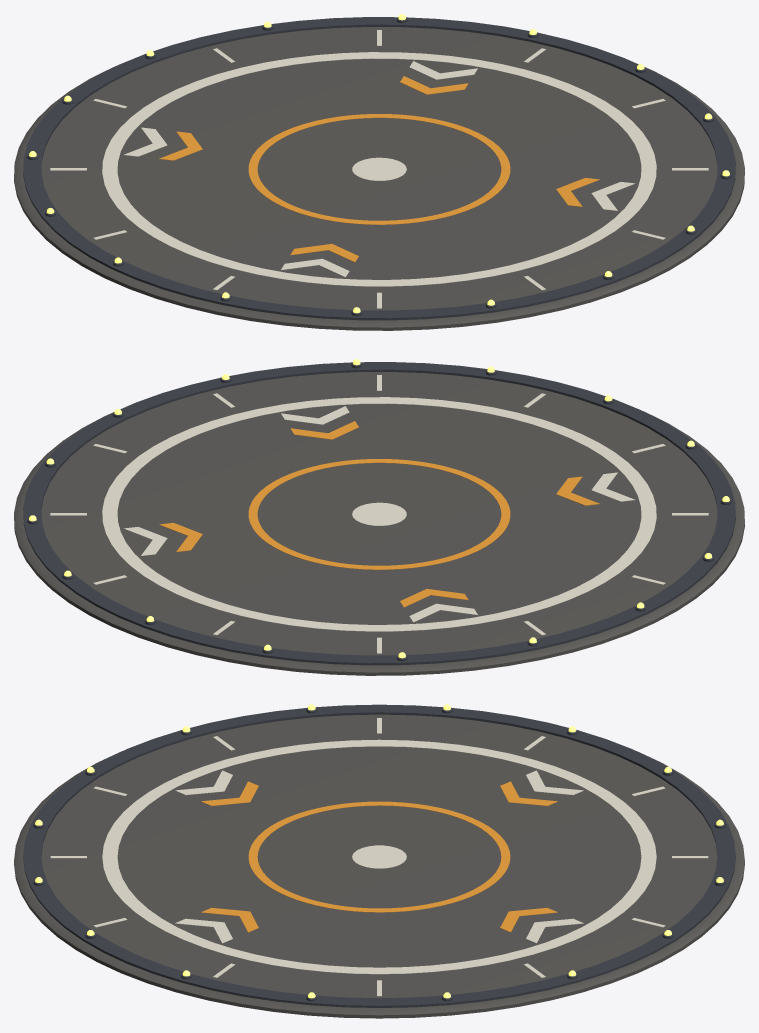
The model's file is landing_pad_v4.glb.
3 views of the same model, one above another, from view 1: azimuth 30°, elevation 25°; view 2: azimuth 150°, elevation 25°; view 3: azimuth 270°, elevation 25° (orthographic).
Visible parts, largest first — view 1: body; view 2: body; view 3: body.
Boxes of the visible parts, bbox=[...] form: body: bbox=[14, 14, 744, 330]; body: bbox=[14, 359, 744, 675]; body: bbox=[14, 704, 744, 1018].
Size of the model in its own units: 12 by 0.28 by 12.
